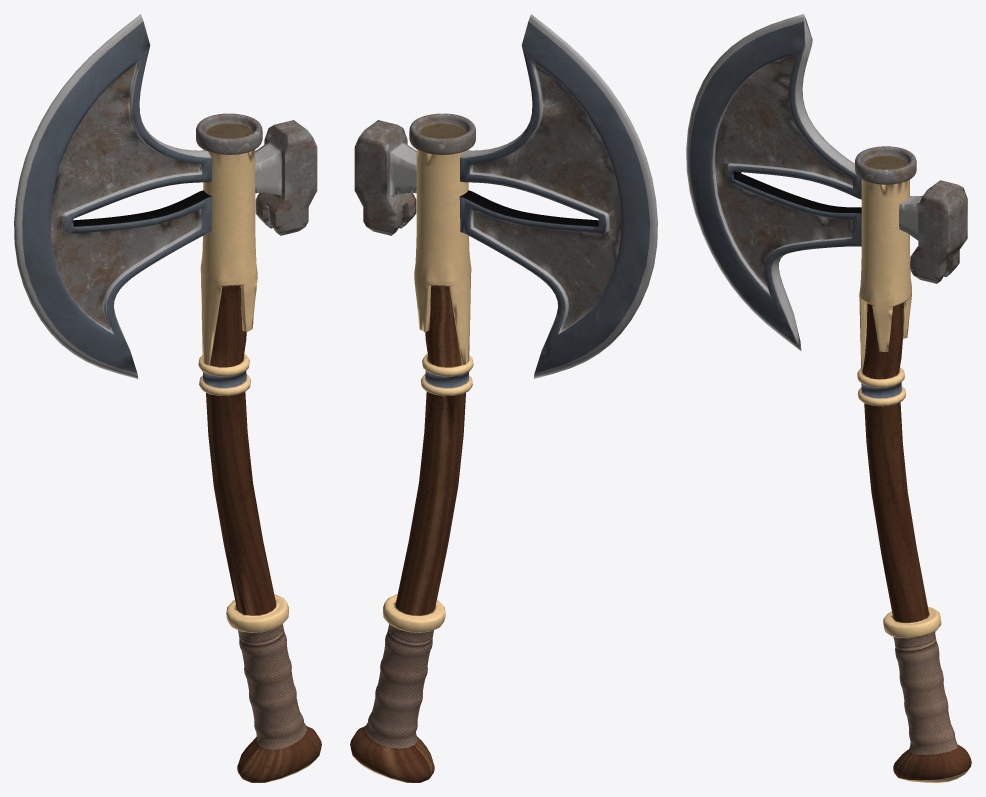
File: axe.dae
The picture shows the model from 3 angles, left to right: view 1: azimuth 30°, elevation 25°; view 2: azimuth 150°, elevation 25°; view 3: azimuth 330°, elevation 25°; orthographic projection. The views are drawn at different scales.
Parts seen in each view (by area): view 1: axe; view 2: axe; view 3: axe.
Boxes of the visible parts, x1,y1,x2,y2 form: axe: (14,14,321,782); axe: (350,14,657,782); axe: (686,14,971,782).
Size of the model in its own units: 1.68 by 0.3233 by 4.19.
1 material, 1 textured.
